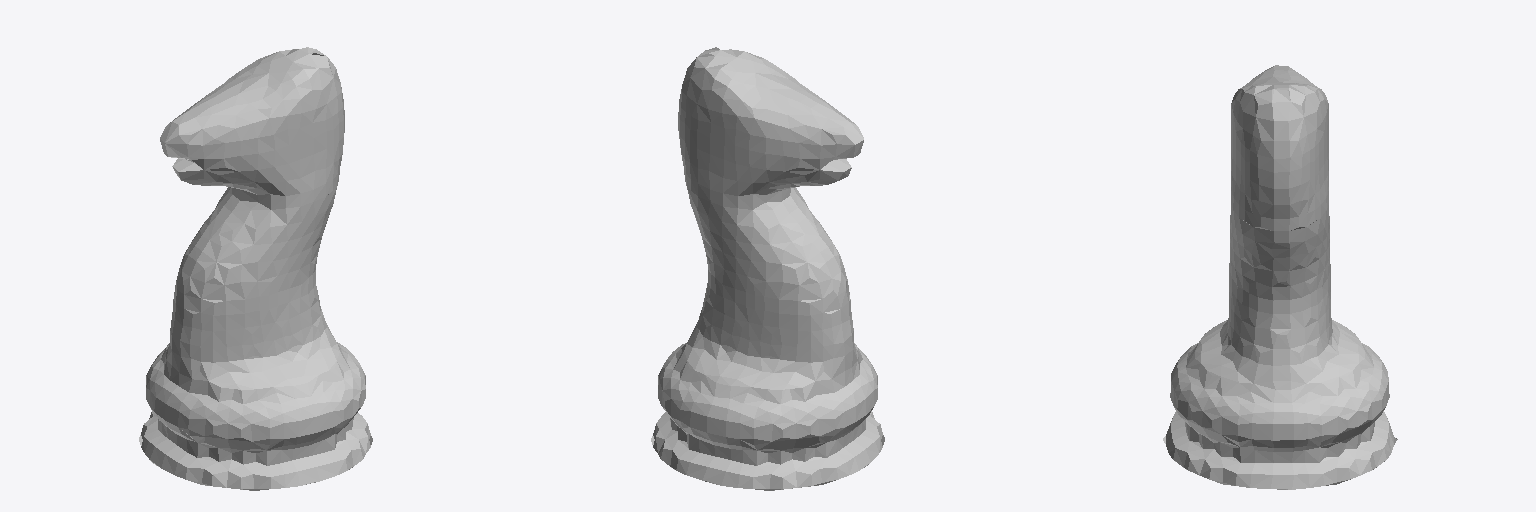
File: Knight.obj
3 views of the same model, side by side, from view 1: azimuth 30°, elevation 25°; view 2: azimuth 150°, elevation 25°; view 3: azimuth 270°, elevation 25° (orthographic).
Size of the model in its own units: 11.27 by 20.35 by 11.27.